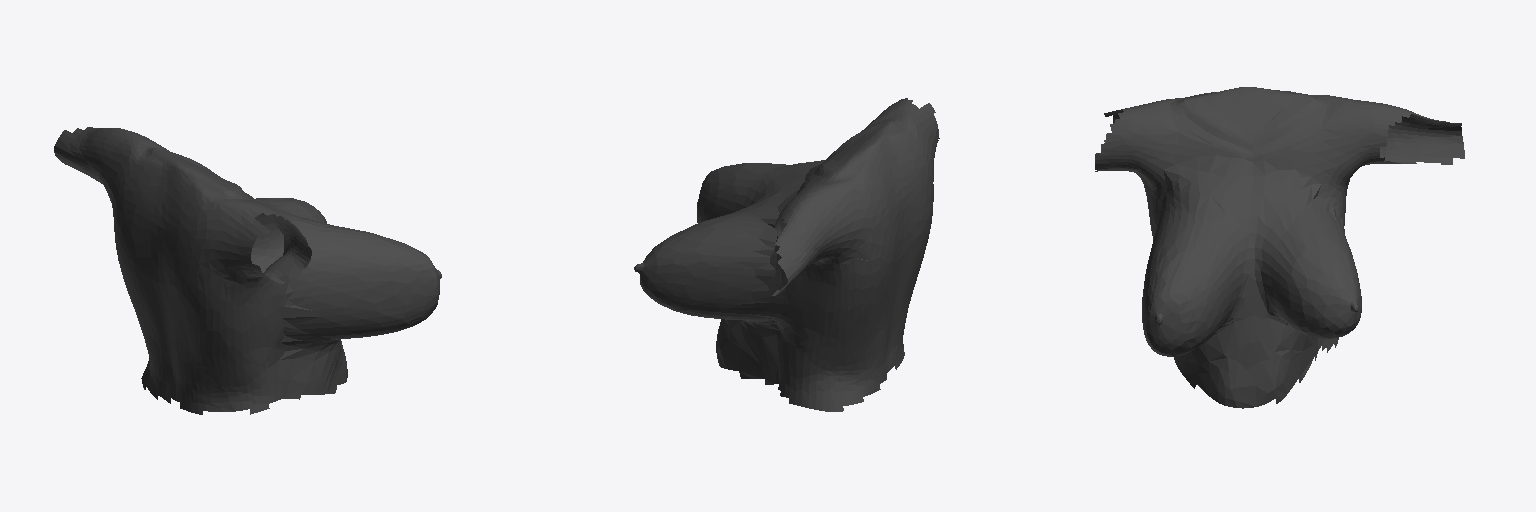
Rendered from ex_boobs.obj.
The picture shows the model from 3 angles: view 1: azimuth 30°, elevation 25°; view 2: azimuth 150°, elevation 25°; view 3: azimuth 270°, elevation 25°; orthographic projection.
Visible parts, largest first — view 1: Default; view 2: Default; view 3: Default.
Boxes of the visible parts, <box> form: Default: <box>54,127,441,414</box>; Default: <box>634,98,939,411</box>; Default: <box>1095,87,1464,408</box>.
Size of the model in its own units: 3.16 by 3 by 4.06.